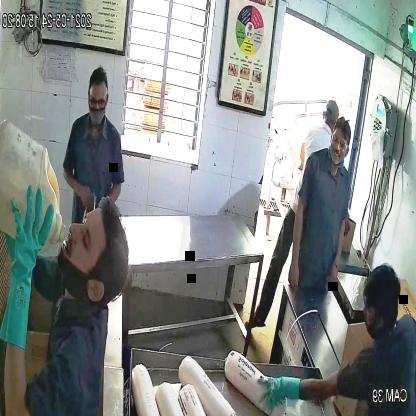goggles: (86, 89, 110, 113), (327, 130, 354, 151)
no_goggles: (76, 205, 94, 305)
